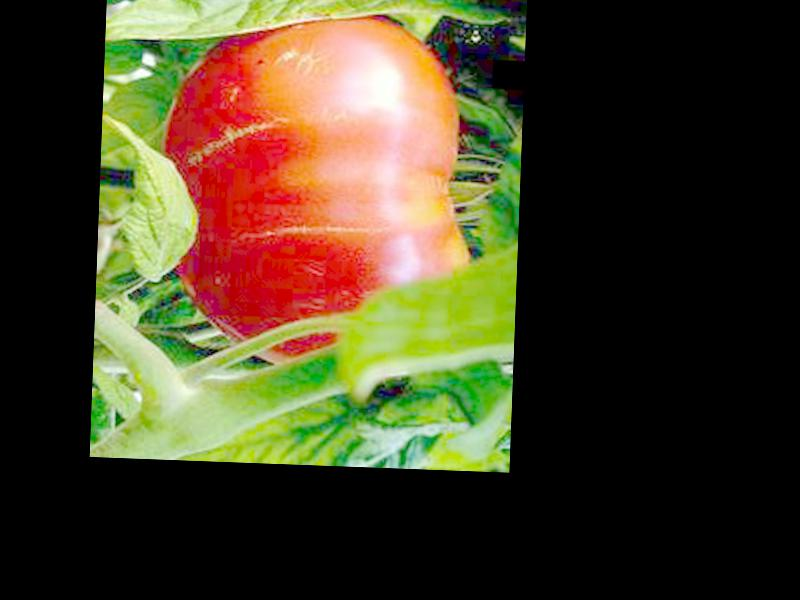Tomato: (156, 5, 480, 369)
